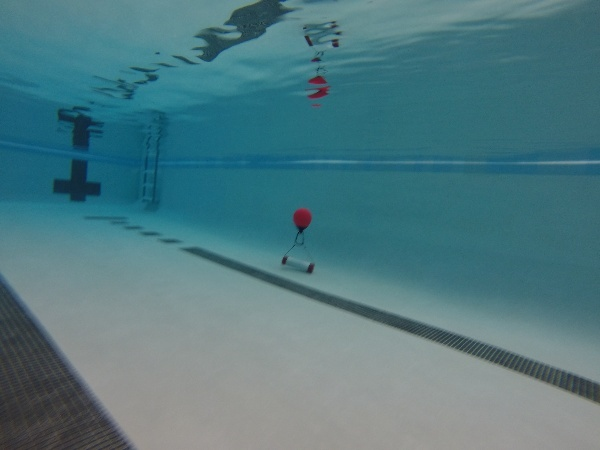buoy_red: (291, 207, 313, 235)
